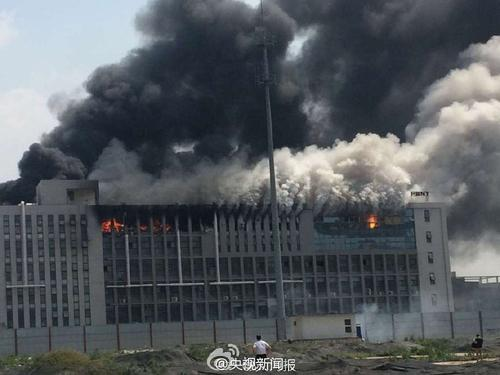smoke: (101, 16, 490, 179)
